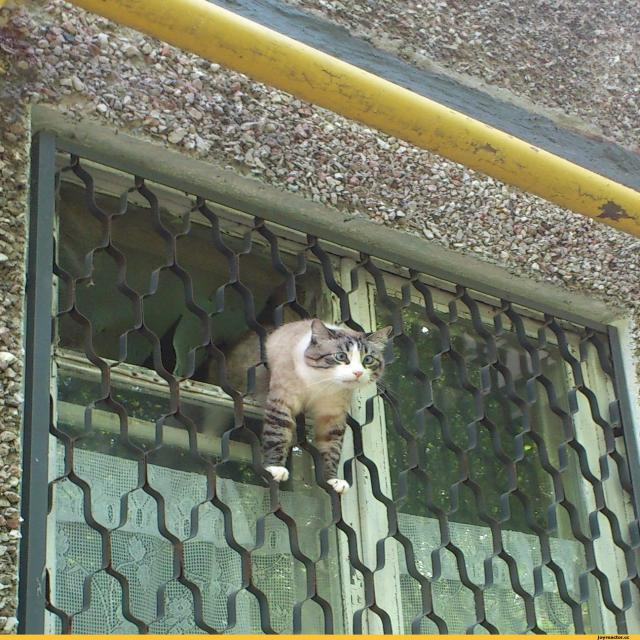cat: (215, 310, 428, 498)
